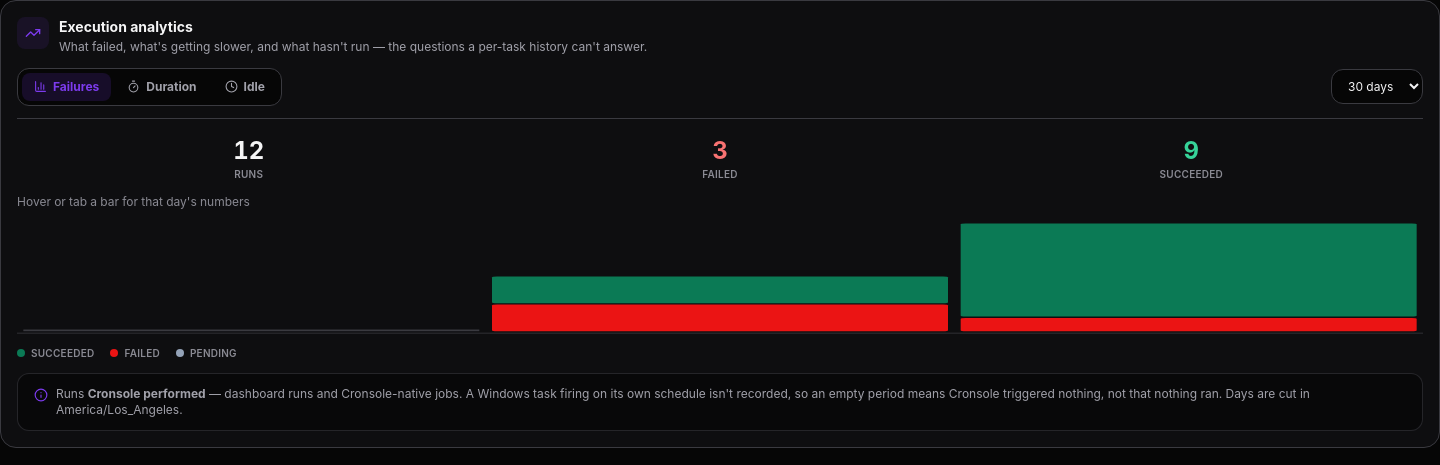
Test case: ExecutionAnalyticsTool › carries the evidence beside every idle task, never the verdict alone
Check: the text "Runs" is shown, box 234,168 -> 263,180
Click the tab "Idle": x=245, y=86 213,72 -> 277,100
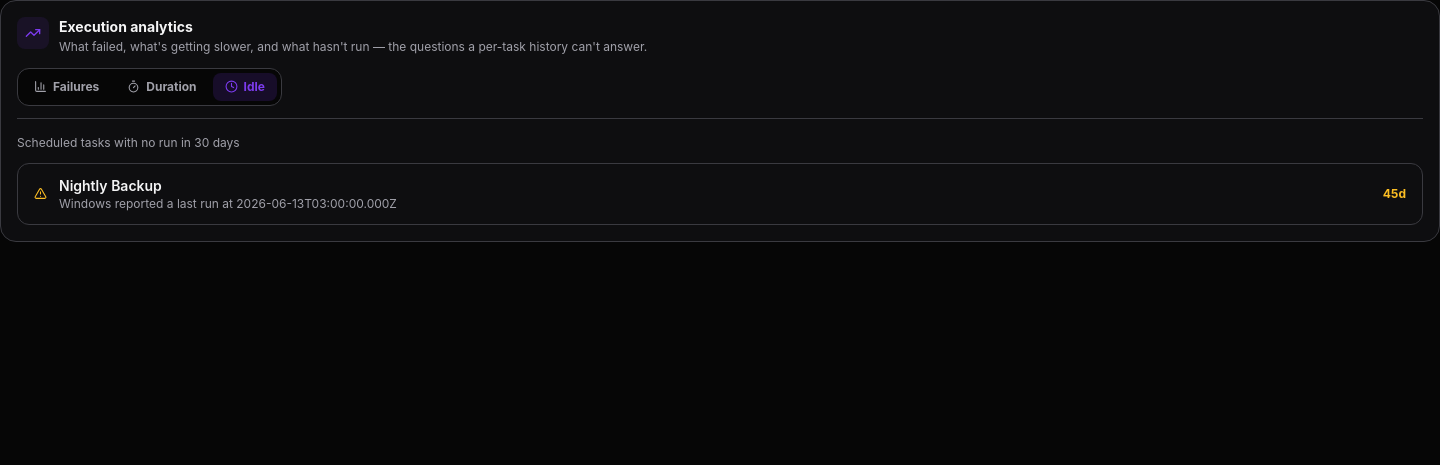
Check: the button "Nightly Backup" is shown, box 59,176 -> 162,196
Check: the text "Windows reported a last run at 2026-06-13T03:00:00.000Z" is shown, box 59,196 -> 397,210
Check: the text "45d" is shown, box 1383,186 -> 1406,202
